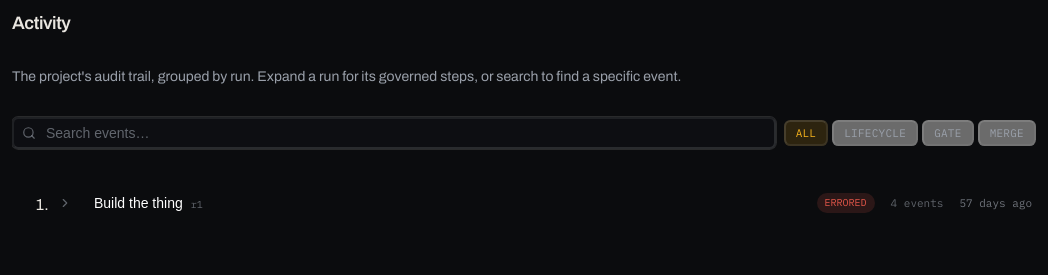
Test: ActivityWorkspace › search jumps straight to a matching event (auto-expanded, non-matches hidden)
This screenshot has width=1048, height=275.
Expected: the button "Build the thing" is shown, [52, 181, 1036, 225]
Step 1. Type "parked" into the field labelled "Search events" → (394, 133), box [12, 117, 776, 149]
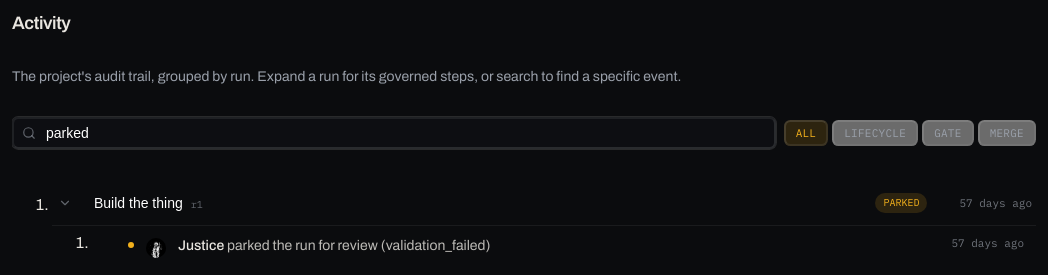
Expected: the text "parked the run for review (validation_failed)" is shown, [227, 238, 490, 253]
